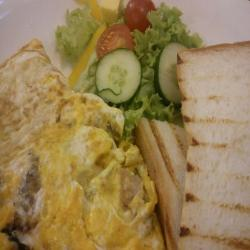bread: (137, 39, 249, 250)
omelette: (4, 52, 160, 250)
salad: (58, 5, 204, 127)
